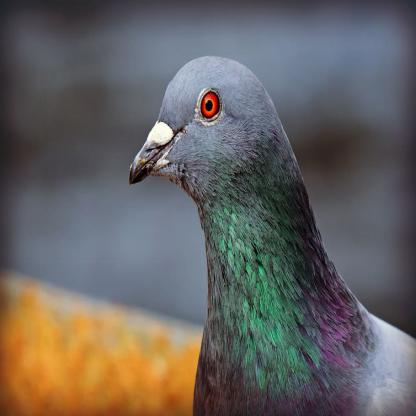Rock Pigeon: (128, 48, 407, 409)
